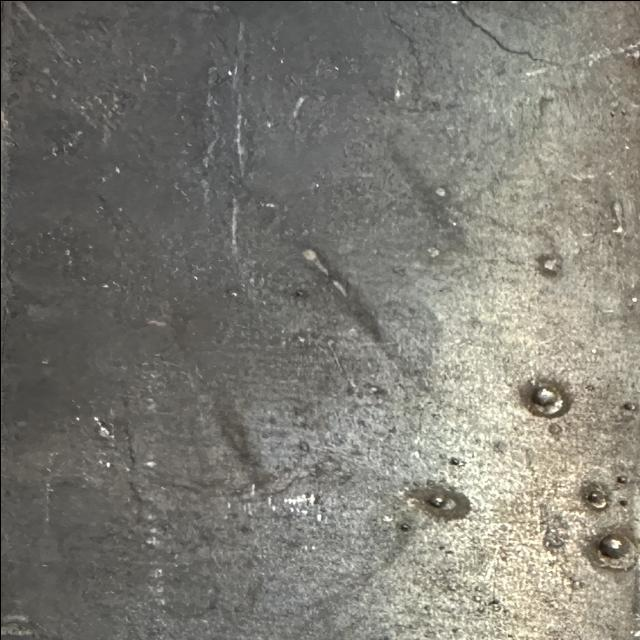Spatters: (530, 384, 561, 414), (597, 533, 629, 558), (91, 415, 113, 438), (423, 495, 455, 509), (587, 489, 603, 501), (613, 474, 628, 483), (297, 440, 308, 452), (622, 402, 636, 410), (142, 459, 156, 466), (400, 522, 410, 531), (617, 499, 628, 506), (450, 457, 459, 465), (114, 165, 119, 173), (64, 248, 70, 254), (100, 283, 108, 287), (100, 176, 105, 182), (116, 206, 122, 211), (231, 291, 237, 296), (105, 461, 110, 467), (74, 415, 79, 420), (124, 466, 129, 471), (227, 69, 231, 75), (86, 244, 92, 248), (296, 290, 302, 294), (334, 65, 338, 70), (279, 58, 283, 63), (270, 45, 275, 49), (98, 205, 103, 209), (67, 259, 72, 263), (37, 232, 41, 237), (192, 275, 197, 279), (154, 184, 158, 188), (81, 276, 85, 280), (94, 209, 99, 212), (62, 231, 66, 234), (10, 242, 15, 244), (46, 232, 51, 234), (47, 244, 52, 246), (51, 236, 54, 239)
